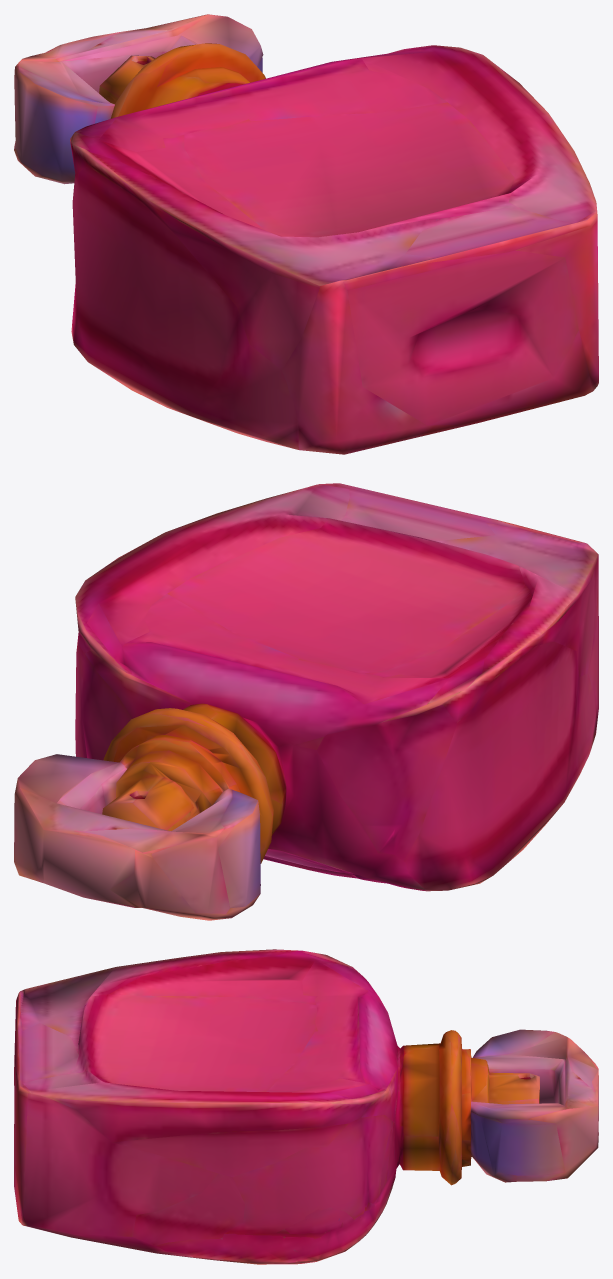
3 renders of one model, top to bottom at view 1: azimuth 30°, elevation 25°; view 2: azimuth 150°, elevation 25°; view 3: azimuth 270°, elevation 25°, orthographic. The views are drawn at different scales.
Parts seen in each view (by area): view 1: material; view 2: material; view 3: material.
Boxes of the visible parts, x1,y1,x2,y2 form: material: (14, 14, 598, 454); material: (14, 483, 598, 920); material: (14, 949, 598, 1264).
Size of the model in its own units: 0.6258 by 0.3083 by 1.
Materials: 1 (1 with a texture image).
